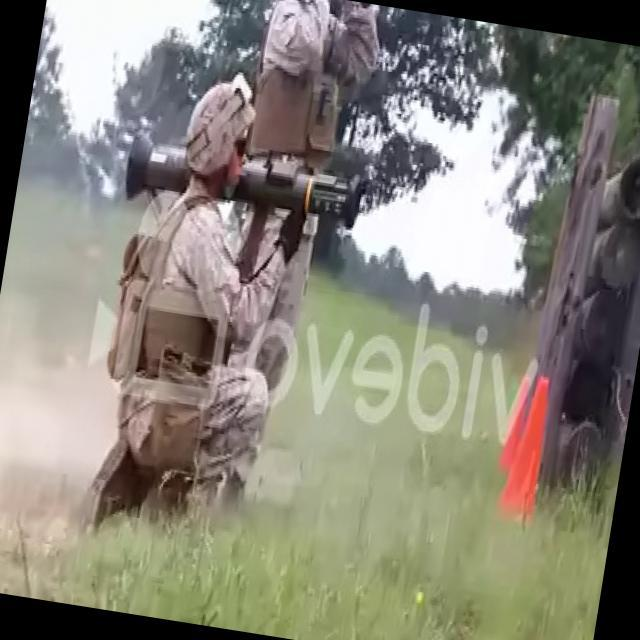rocket: (123, 130, 370, 228)
